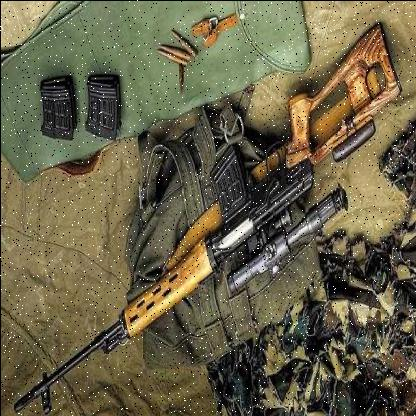rifle: (10, 20, 405, 416)
